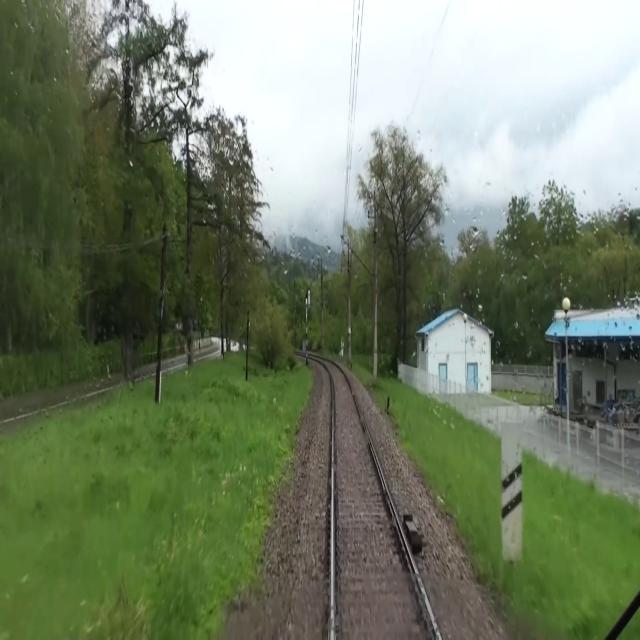rail-track: (326, 363, 437, 639)
